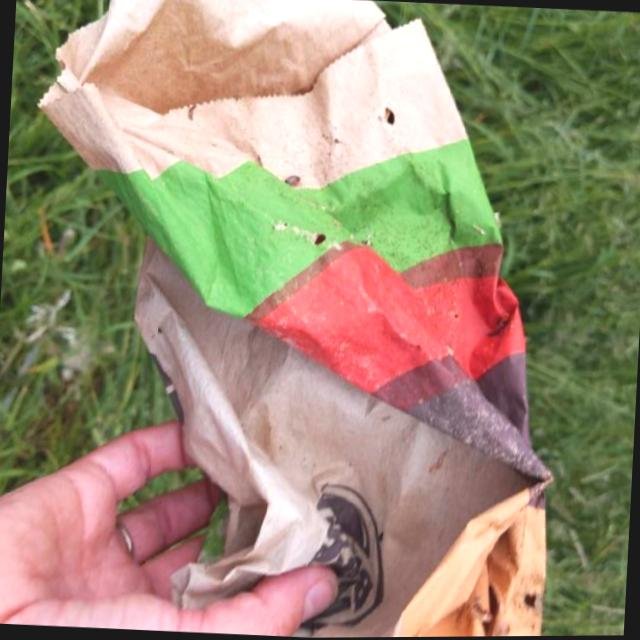Paper: (7, 0, 582, 640)
